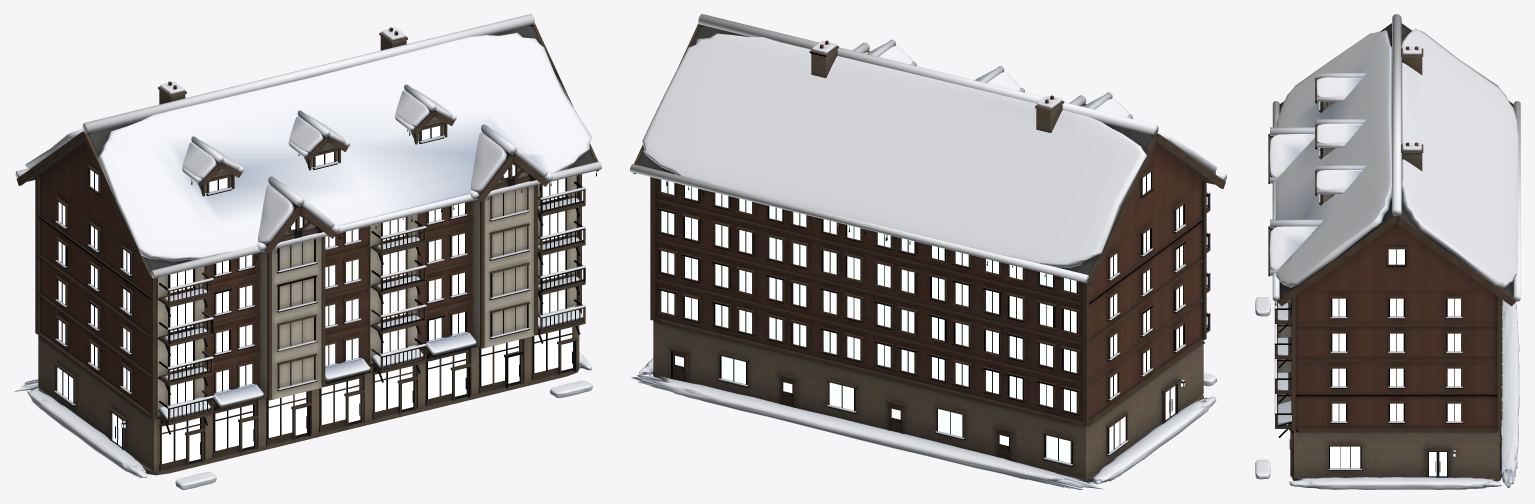
File: village_block_b.glb
3 views of the same model, side by side, from view 1: azimuth 30°, elevation 25°; view 2: azimuth 150°, elevation 25°; view 3: azimuth 270°, elevation 25° (orthographic). The views are drawn at different scales.
Parts seen in each view (by area): view 1: village_block_b, village_block_b_snow, village_block_b_lit; view 2: village_block_b, village_block_b_snow, village_block_b_lit; view 3: village_block_b_snow, village_block_b, village_block_b_lit.
Boxes of the visible parts, x1,y1,x2,y2 form: village_block_b: (16,23,598,475); village_block_b_snow: (15,14,601,489); village_block_b_lit: (57,126,572,463); village_block_b: (633,23,1225,482); village_block_b_snow: (630,14,1226,489); village_block_b_lit: (661,172,1182,463); village_block_b_snow: (1255,14,1520,489); village_block_b: (1268,23,1515,481); village_block_b_lit: (1330,249,1460,476).
Size of the model in its own units: 37.09 by 24.9 by 20.66.
5 materials, 1 textured.
